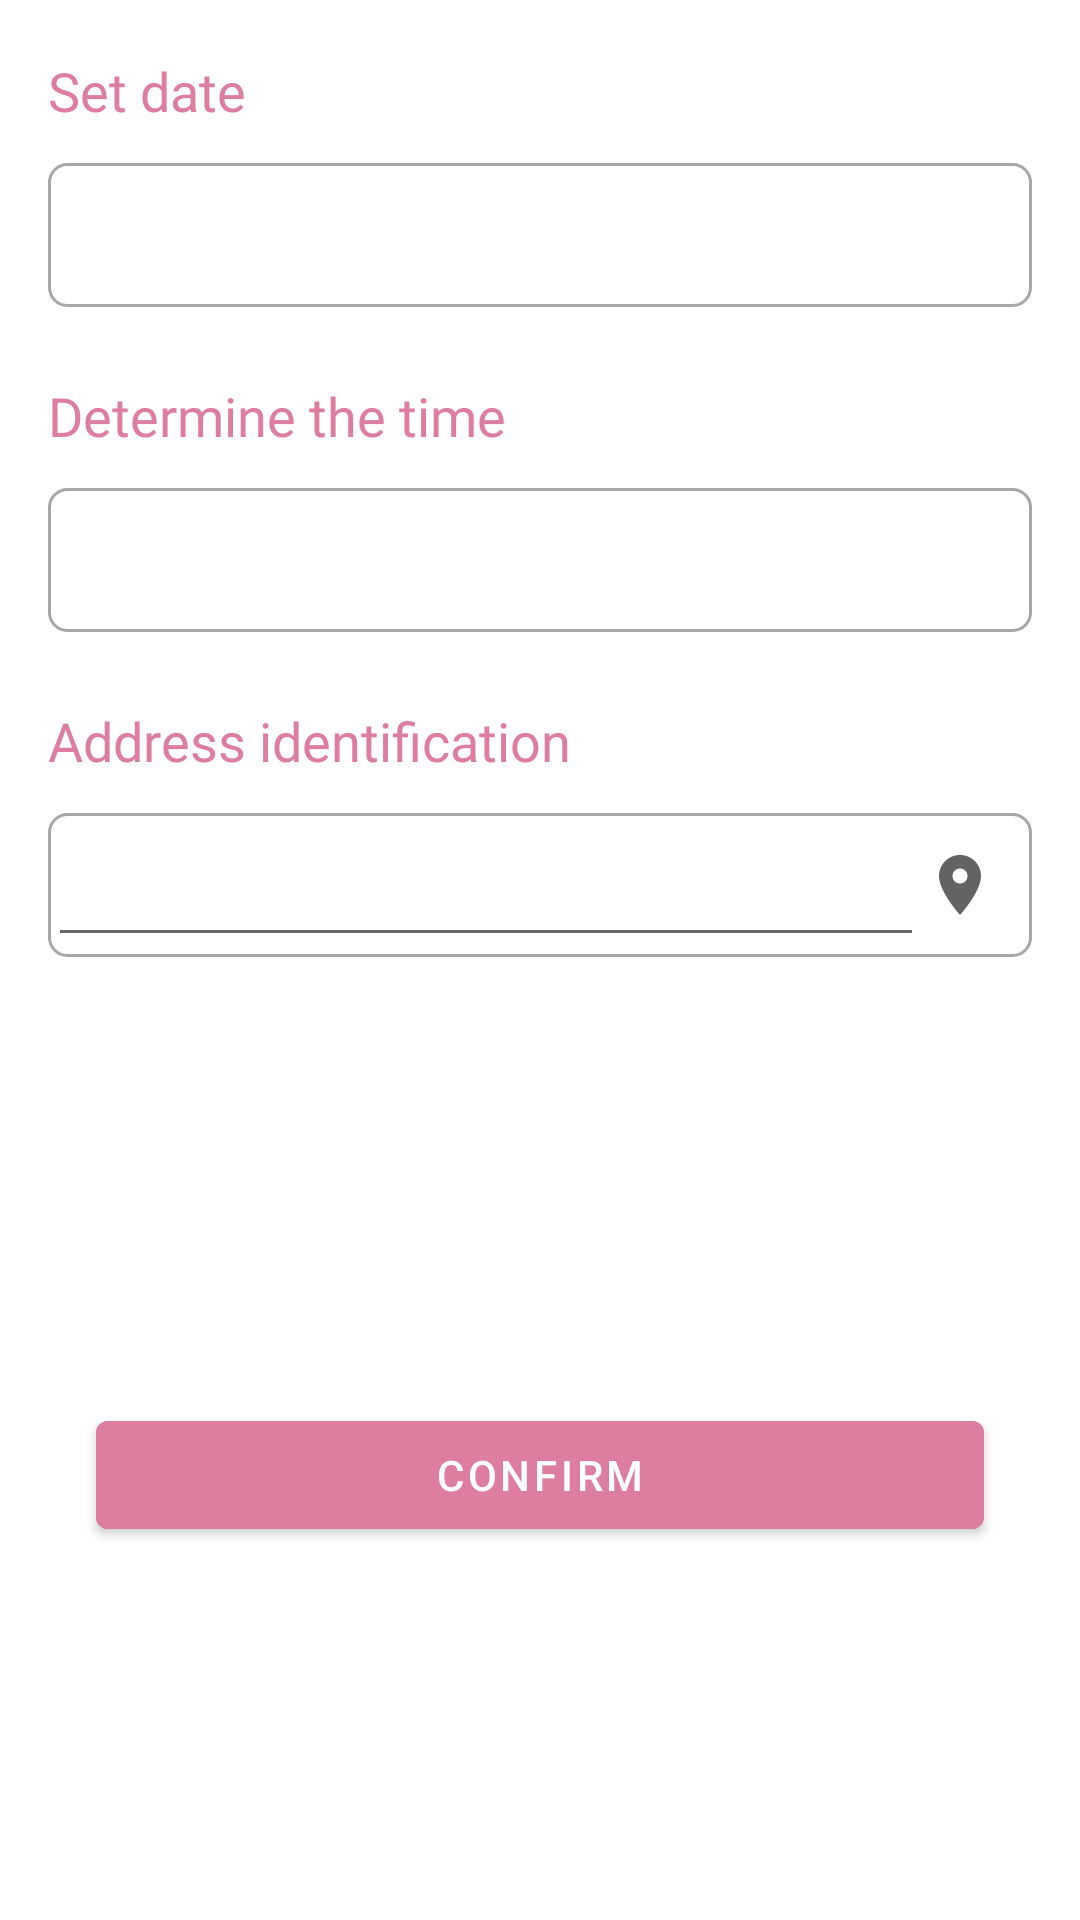

Icons on this 1080x1920 Android screen, each with its box as (x1, y1, x2, y2):
location on: (939, 855, 981, 915)
